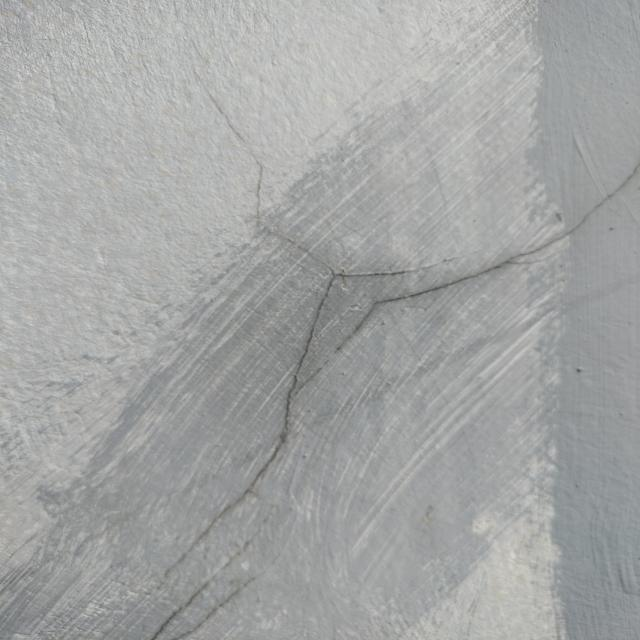Crack: (156, 66, 624, 582)
